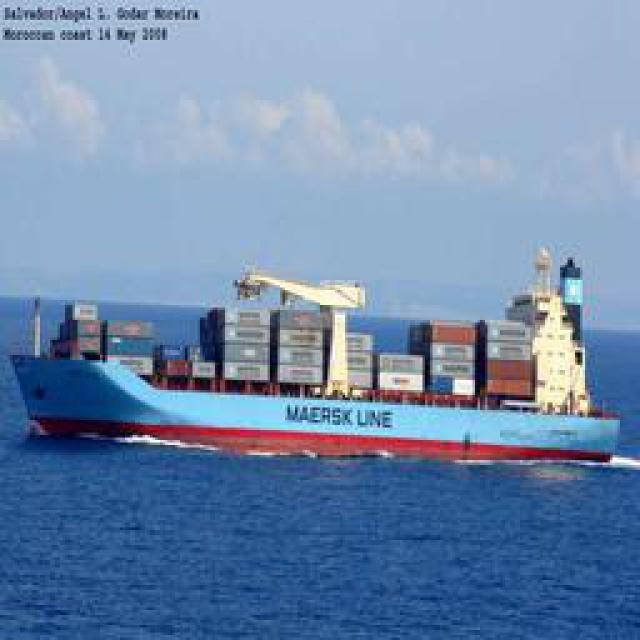Ship: (14, 272, 629, 465)
